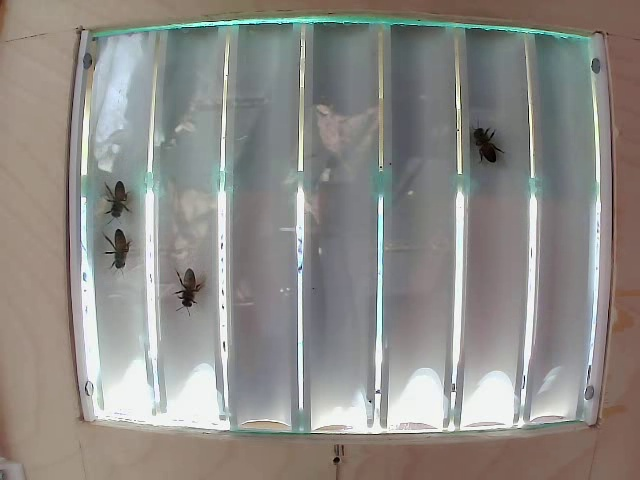bee: (460, 105, 497, 160), (168, 262, 209, 309), (108, 222, 138, 273), (102, 176, 132, 220)
